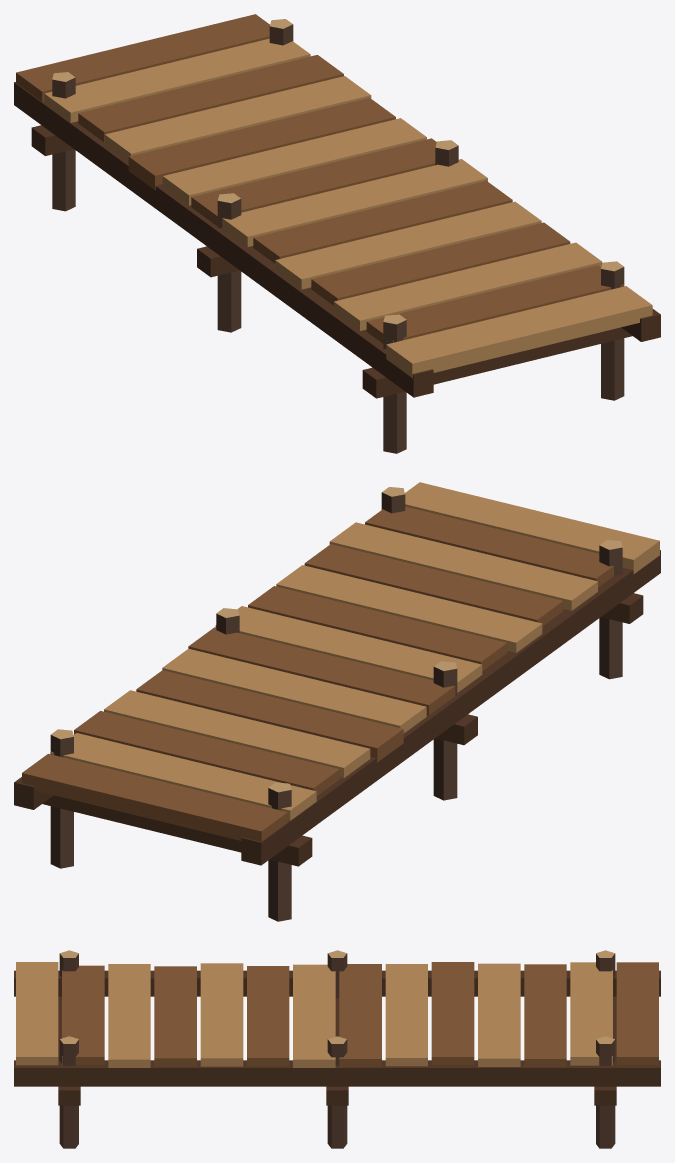
File: Dorf_Steg.fbx
3 views of the same model, one above another, from view 1: azimuth 30°, elevation 25°; view 2: azimuth 150°, elevation 25°; view 3: azimuth 270°, elevation 25° (orthographic). The views are drawn at different scales.
Visible parts, largest first — view 1: Dorf_Steg; view 2: Dorf_Steg; view 3: Dorf_Steg.
Boxes of the visible parts, x1=… form: Dorf_Steg: x1=14, y1=14, x2=660, y2=453; Dorf_Steg: x1=14, y1=482, x2=660, y2=921; Dorf_Steg: x1=14, y1=950, x2=660, y2=1148.
Size of the model in its own units: 2.7 by 1.25 by 7.
